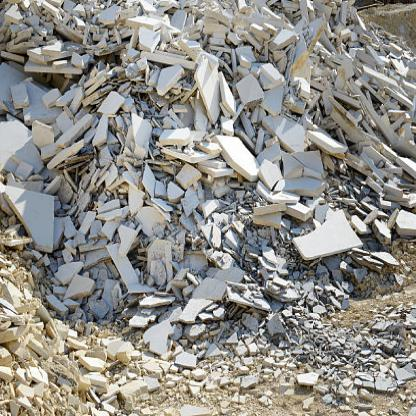Sedimentary_Limestone: (189, 57, 238, 153)
